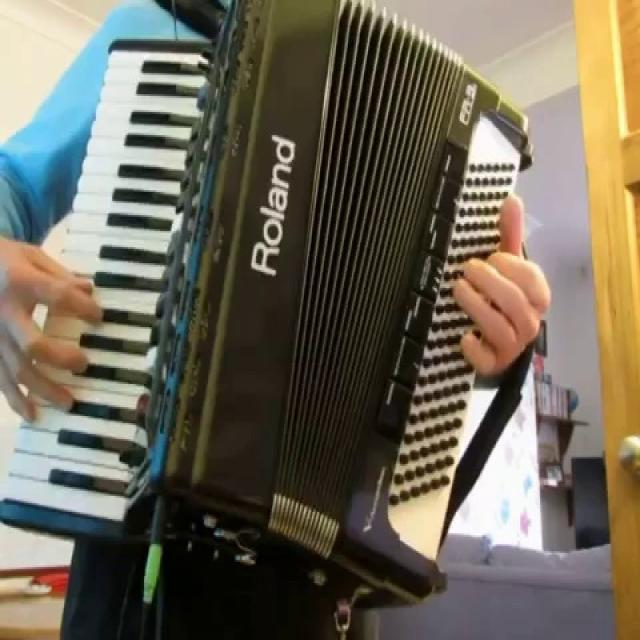Accordion: (0, 4, 524, 590)
